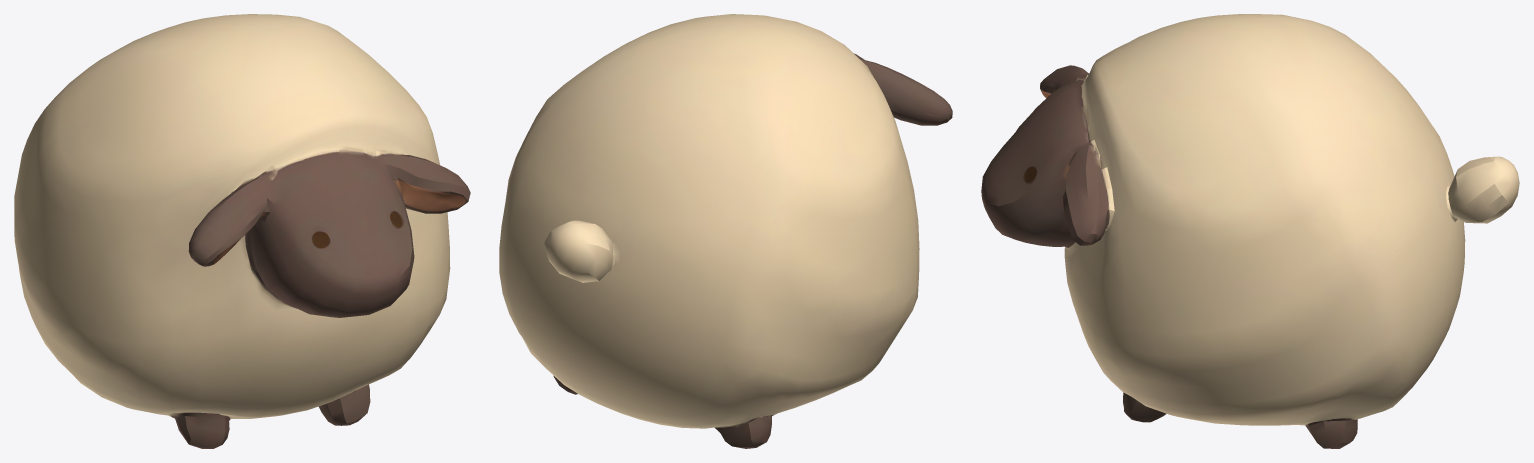
The model's file is Animal_Sheep_01.glb.
3 renders of one model, left to right at view 1: azimuth 30°, elevation 25°; view 2: azimuth 150°, elevation 25°; view 3: azimuth 270°, elevation 25°, orthographic. The views are drawn at different scales.
Parts seen in each view (by area): view 1: Animal_Sheep_01.001; view 2: Animal_Sheep_01.001; view 3: Animal_Sheep_01.001.
Boxes of the visible parts, left/top/right/bottom form: Animal_Sheep_01.001: left=14, top=14, right=470, bottom=448; Animal_Sheep_01.001: left=499, top=14, right=952, bottom=448; Animal_Sheep_01.001: left=981, top=14, right=1519, bottom=448.
Size of the model in its own units: 0.7976 by 0.7379 by 1.
Materials: 1 (1 with a texture image).
